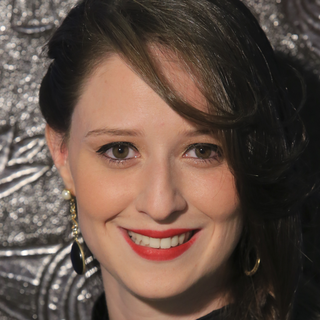eye: (93, 138, 142, 165), (179, 139, 226, 165)
